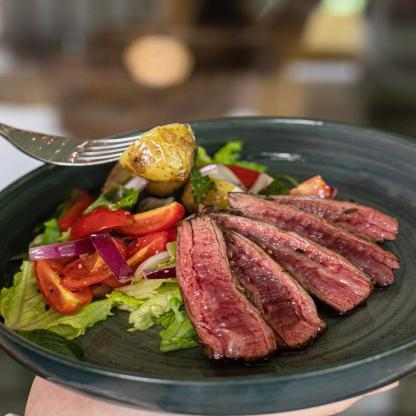Carne: (226, 192, 402, 286), (212, 209, 370, 310), (172, 208, 269, 361), (217, 214, 320, 350), (264, 192, 410, 242)
